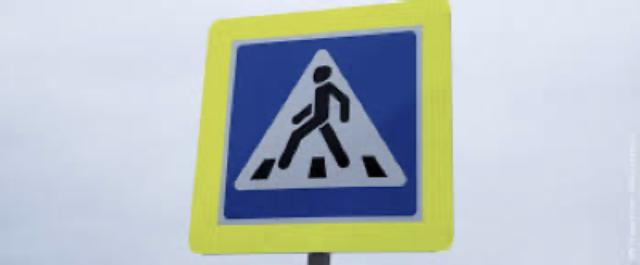crosswalk-sign: (189, 1, 454, 255)
